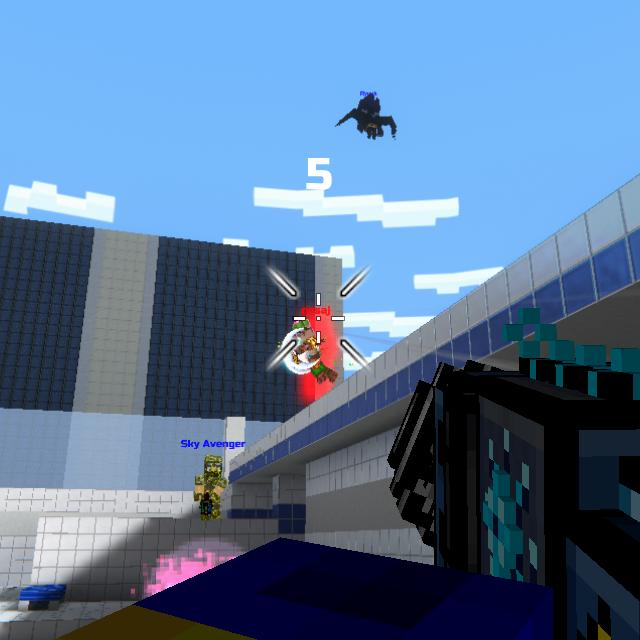Enemy: (292, 319, 338, 385)
